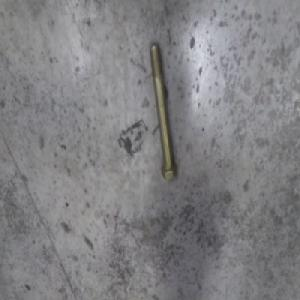Bolt: (141, 35, 174, 171)
